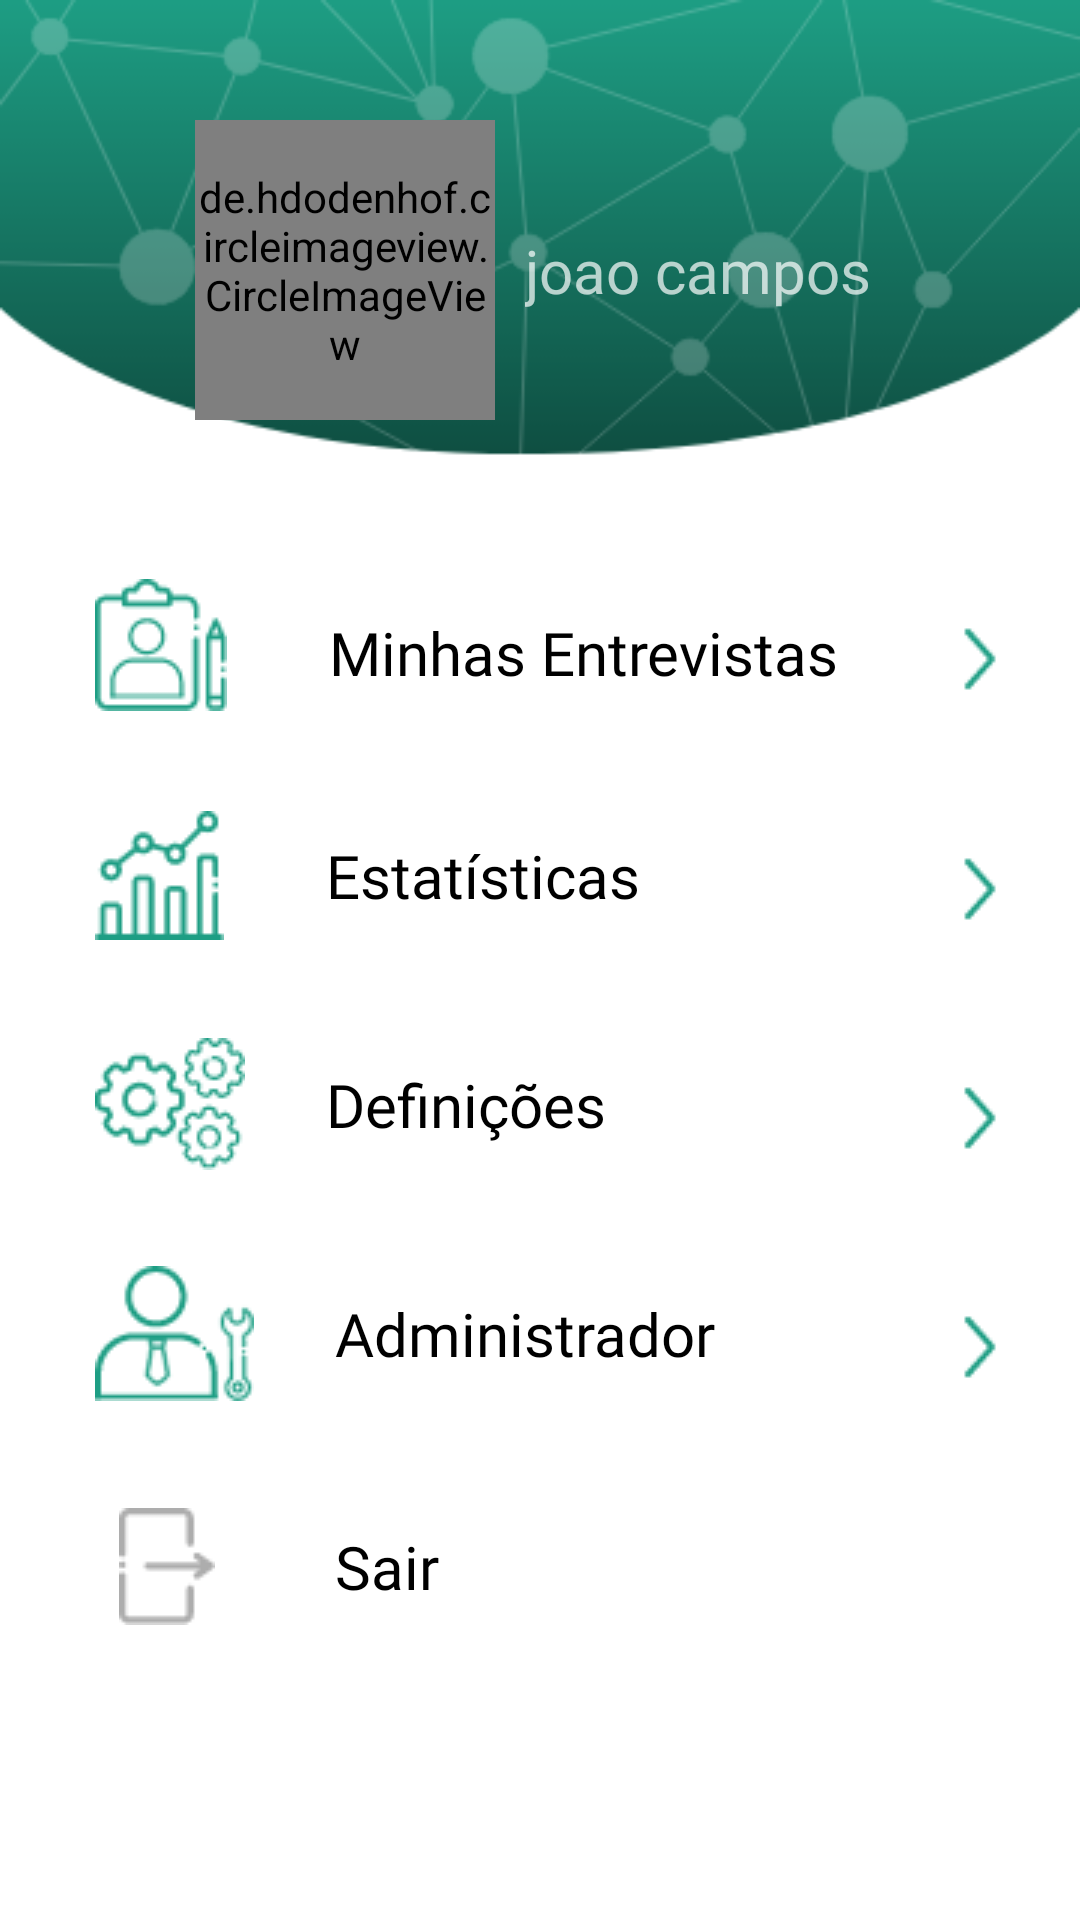

Icons on this 1080*1920 Android screen, each with the point to tap as (x=x, y=y):
config: (x=170, y=1104)
stats: (x=159, y=875)
